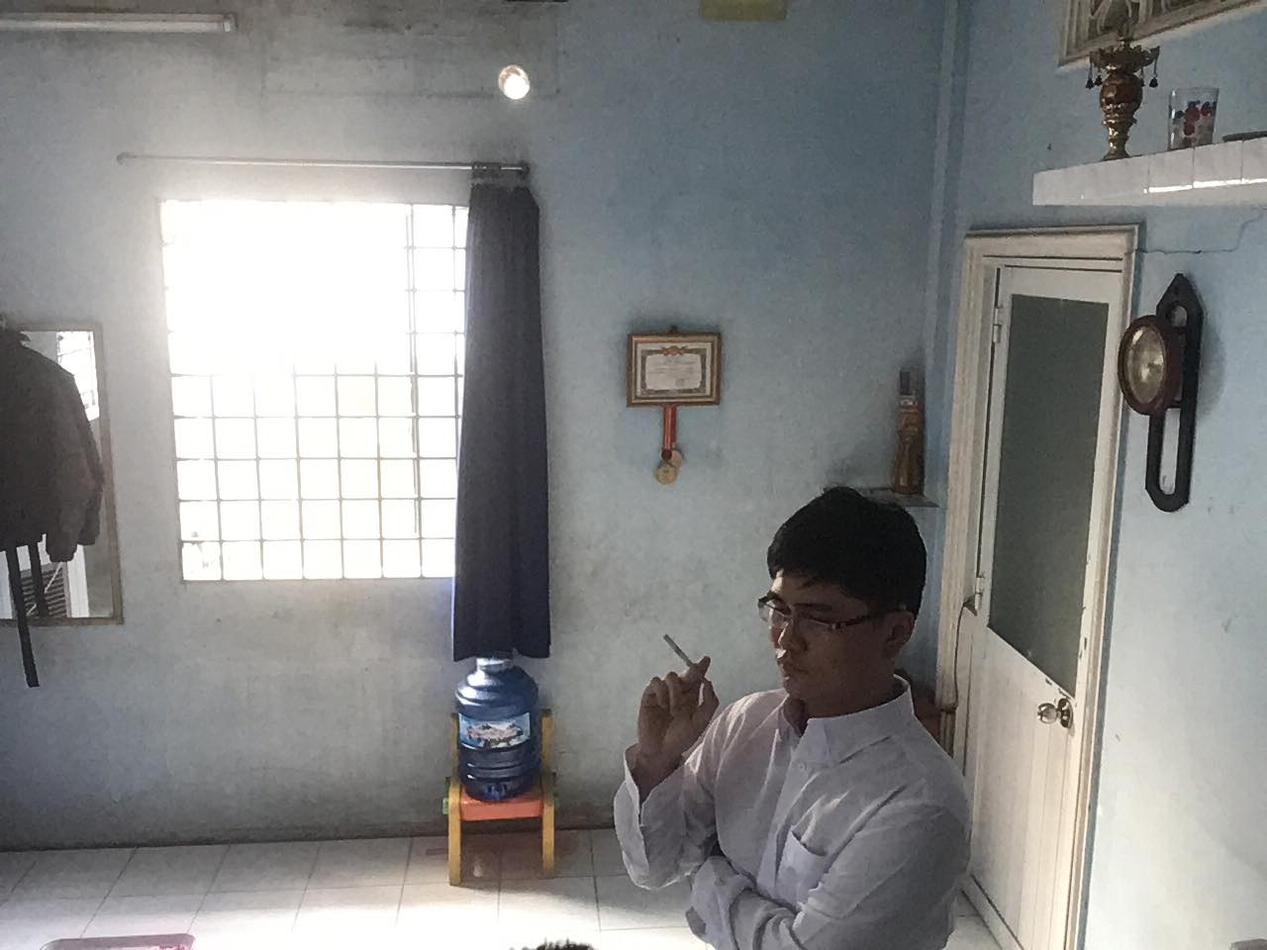cigarette: (661, 632, 705, 672)
person: (597, 454, 985, 950)
